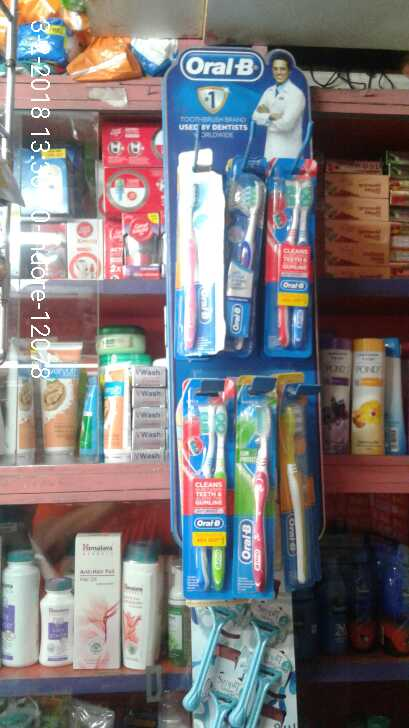oralb: (172, 162, 227, 360), (236, 377, 283, 600), (181, 379, 229, 596), (268, 159, 313, 358), (287, 377, 322, 591), (229, 161, 261, 357)
